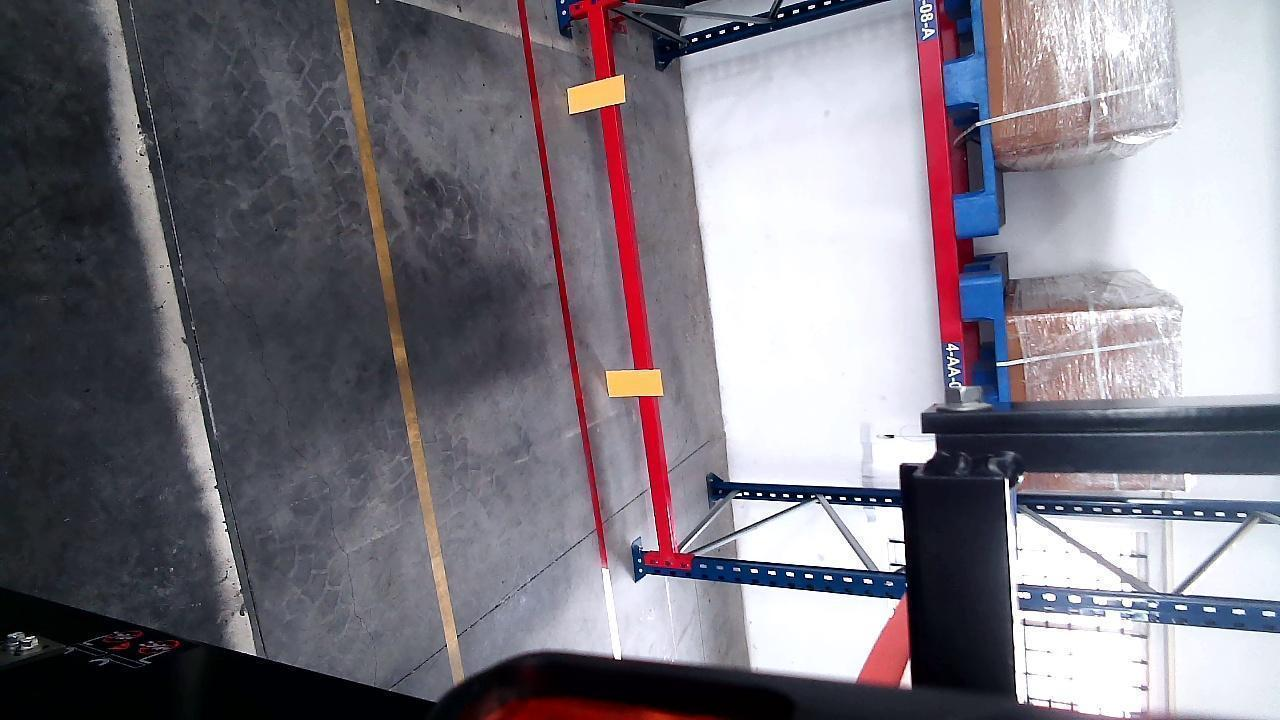red_line: (519, 0, 606, 596)
yellow_line: (323, 0, 480, 679)
